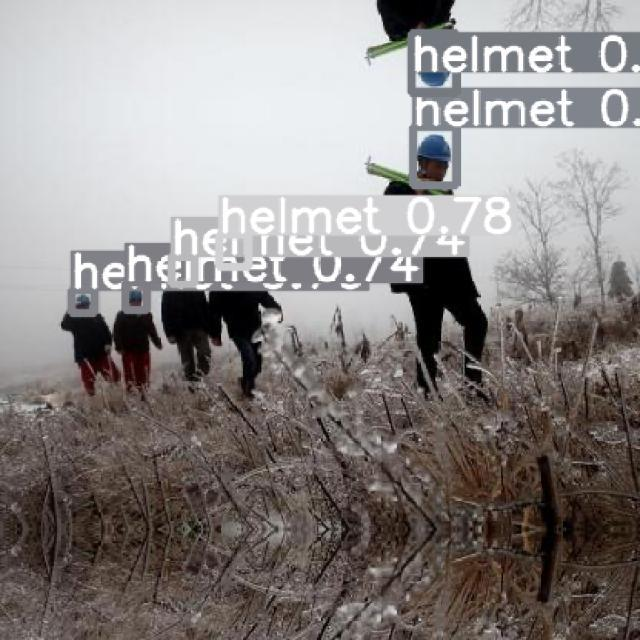Helmet: (416, 133, 451, 162)
